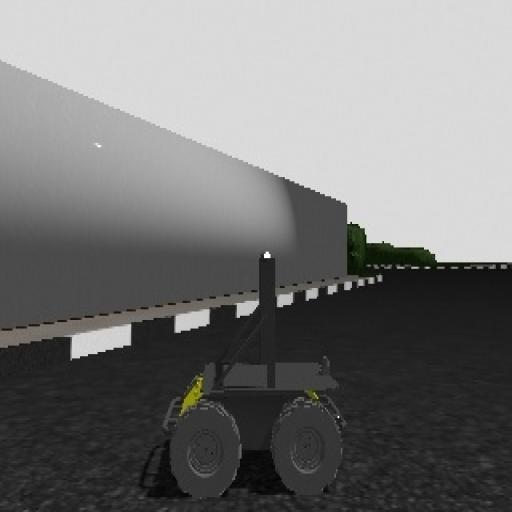huskya200: (137, 234, 350, 504)
